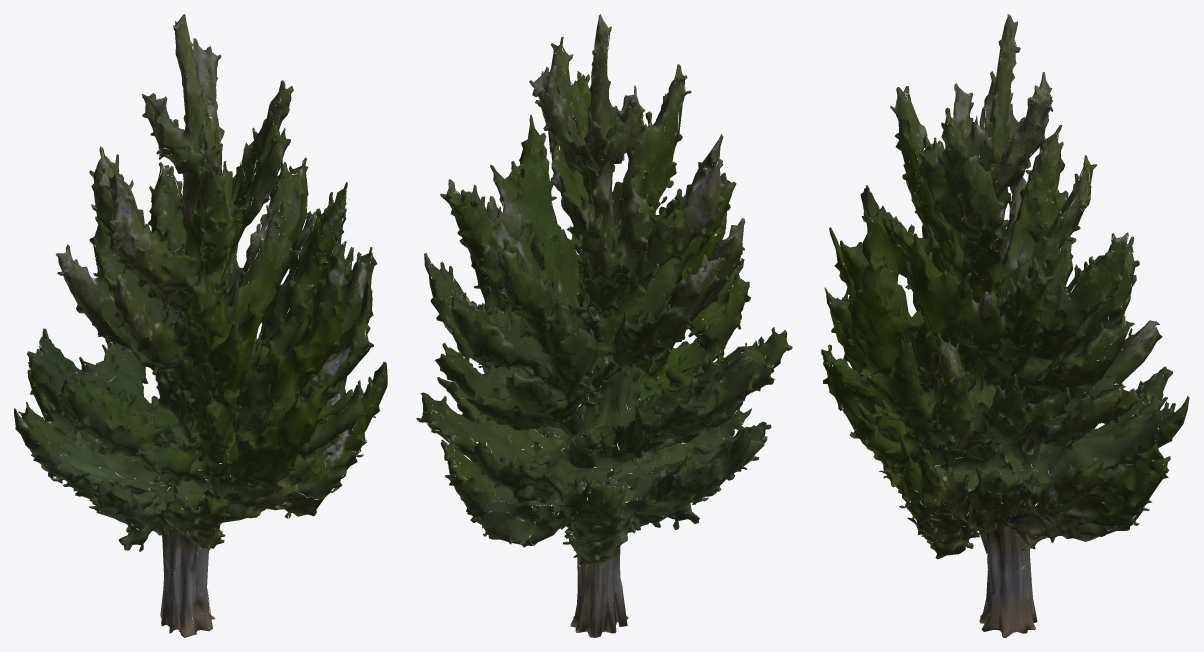
Rendered from arbol.glb.
3 views of the same model, side by side, from view 1: azimuth 30°, elevation 25°; view 2: azimuth 150°, elevation 25°; view 3: azimuth 270°, elevation 25° (orthographic).
Parts seen in each view (by area): view 1: tripo_node_2e29f42f-bf4a-40f3-8d21-cacd1560bf68; view 2: tripo_node_2e29f42f-bf4a-40f3-8d21-cacd1560bf68; view 3: tripo_node_2e29f42f-bf4a-40f3-8d21-cacd1560bf68.
Part boxes in pixels (<box>): tripo_node_2e29f42f-bf4a-40f3-8d21-cacd1560bf68: <box>14,14,387,637</box>; tripo_node_2e29f42f-bf4a-40f3-8d21-cacd1560bf68: <box>416,14,792,637</box>; tripo_node_2e29f42f-bf4a-40f3-8d21-cacd1560bf68: <box>821,14,1189,637</box>.
Bounding box in the file's own units: 0.5676 × 0.9986 × 0.5458.
Materials: 1 (1 with a texture image).
